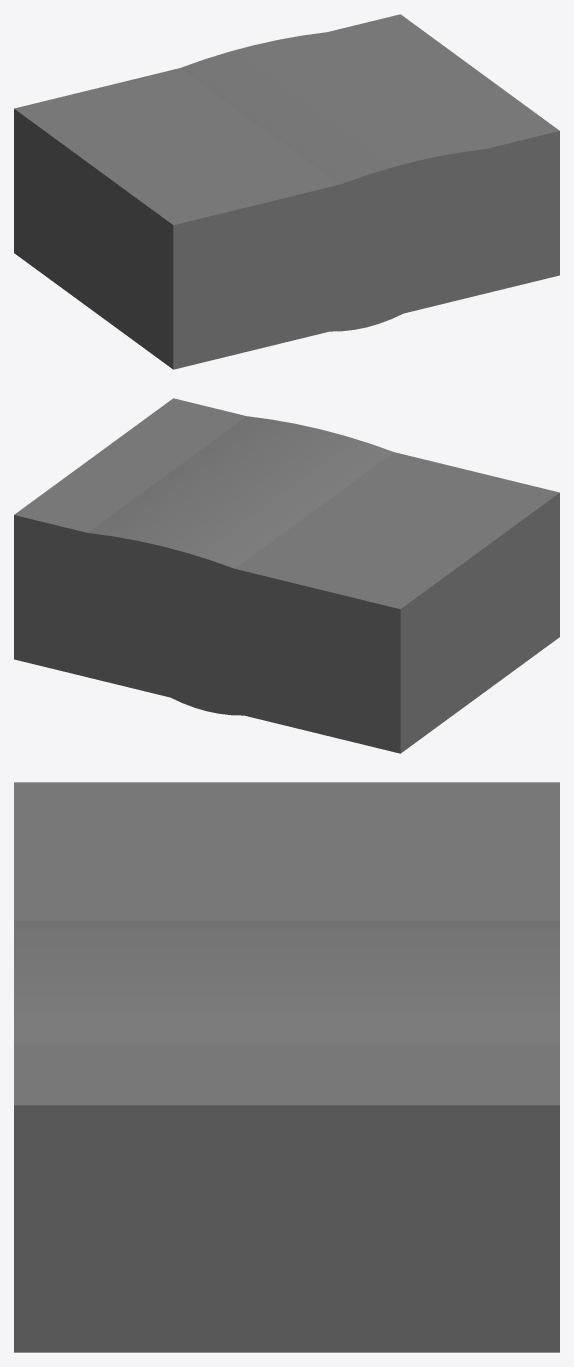
The picture shows the model from 3 angles, top to bottom: view 1: azimuth 30°, elevation 25°; view 2: azimuth 150°, elevation 25°; view 3: azimuth 270°, elevation 25°; orthographic projection. The views are drawn at different scales.
Parts seen in each view (by area): view 1: mesh_id4, mesh_id5; view 2: mesh_id4, mesh_id5; view 3: mesh_id4, mesh_id5.
Part boxes in pixels (<box>): mesh_id4: <box>14,14,559,369</box>; mesh_id5: <box>180,32,486,331</box>; mesh_id4: <box>14,398,559,753</box>; mesh_id5: <box>87,416,393,715</box>; mesh_id4: <box>14,782,559,1352</box>; mesh_id5: <box>14,920,559,1043</box>.
Size of the model in its own units: 0.512 by 0.195 by 0.3657.
Materials: 4 (4 with a texture image).
